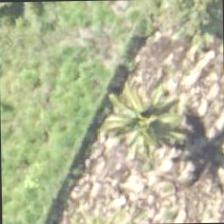Kelapa_Sawit: (102, 67, 194, 159)
